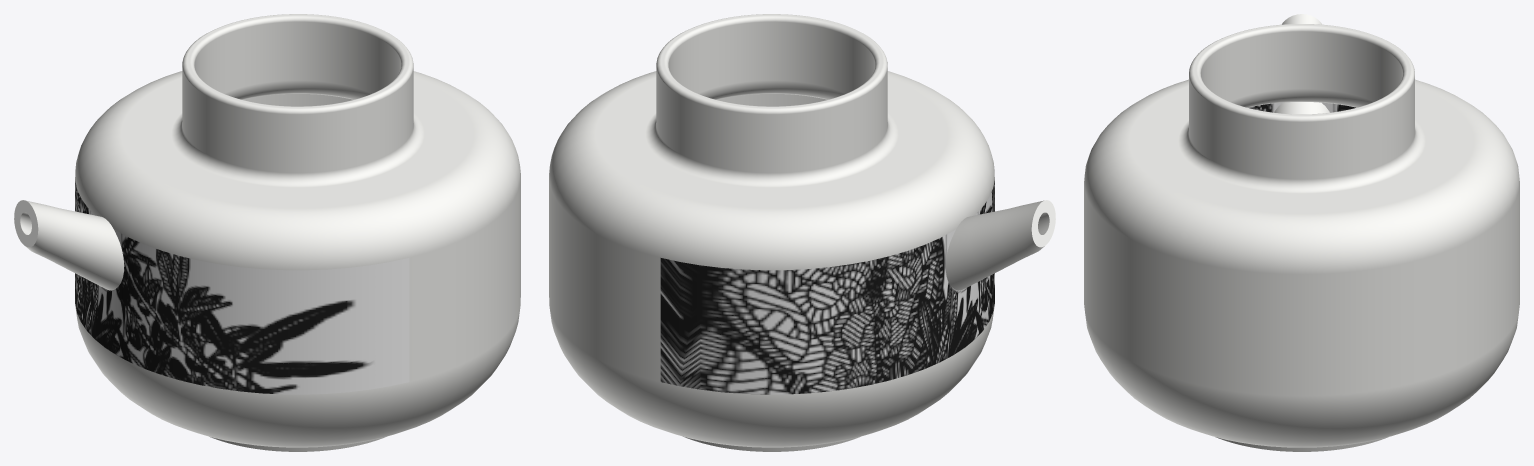
Rendered from tetera.obj.
3 views of the same model, side by side, from view 1: azimuth 30°, elevation 25°; view 2: azimuth 150°, elevation 25°; view 3: azimuth 270°, elevation 25° (orthographic). The views are drawn at different scales.
Parts seen in each view (by area): view 1: tetera:object_2 TETERA, TETERA tetera:object_1; view 2: tetera:object_2 TETERA, TETERA tetera:object_1; view 3: tetera:object_2 TETERA, TETERA tetera:object_1.
Part boxes in pixels (x1,y1,x2,y2): tetera:object_2 TETERA: (75,14,520,451); TETERA tetera:object_1: (14,200,124,290); tetera:object_2 TETERA: (549,14,994,451); TETERA tetera:object_1: (945,200,1055,290); tetera:object_2 TETERA: (1084,24,1519,451); TETERA tetera:object_1: (1274,14,1329,114).
Bounding box in the file's own units: 17.36 × 11.97 × 14.37.
1 material, 1 textured.
